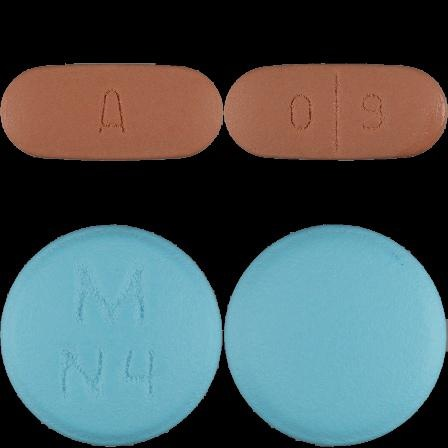43353-536: (0, 0, 224, 224)
